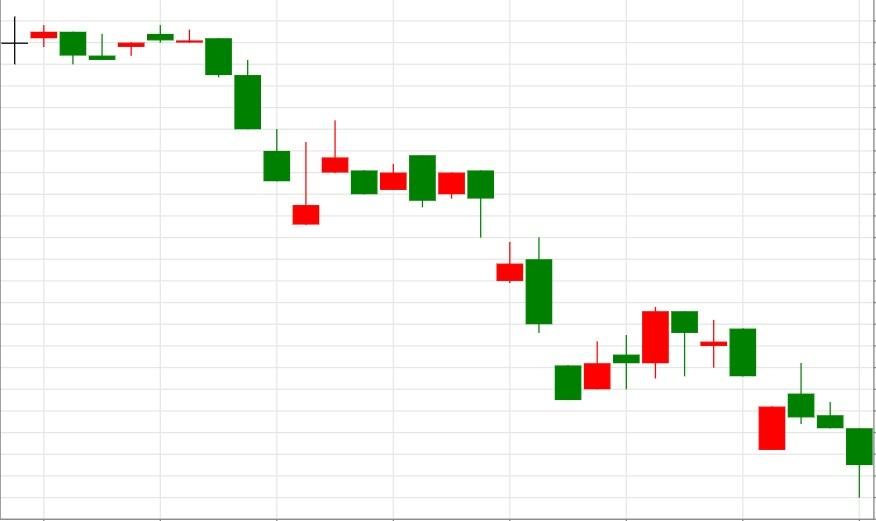hanging_man_fall: (554, 306, 699, 401)
inverse_hammer_rise: (146, 24, 320, 226)
